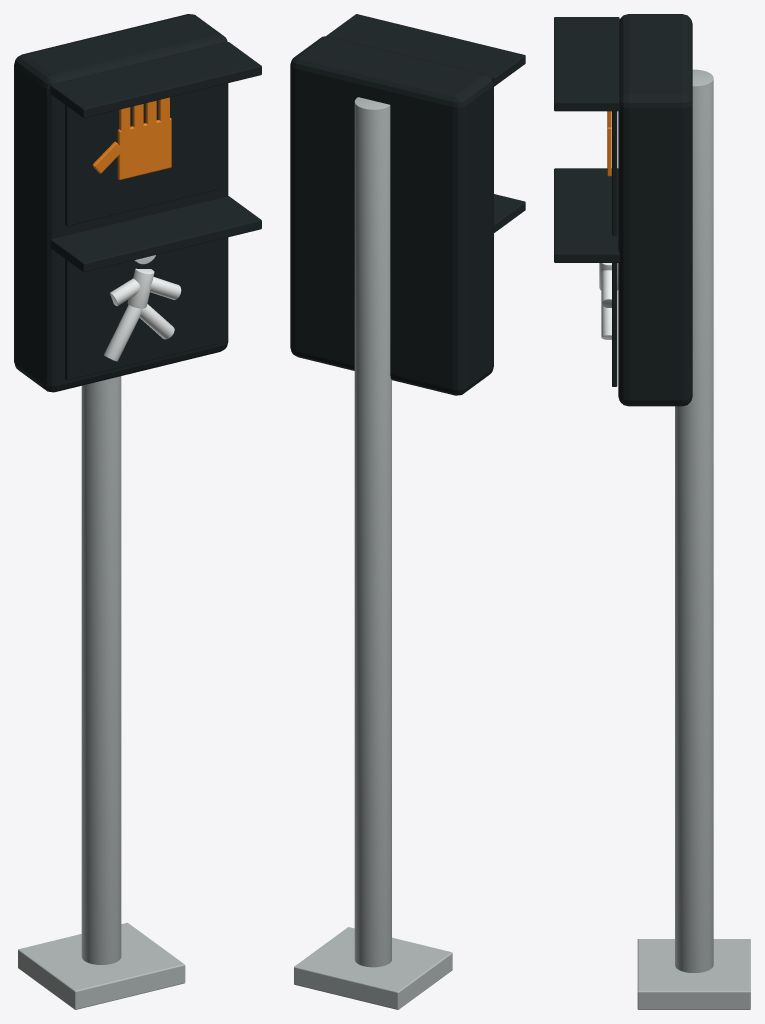
File: pedestrian_signal_head.glb
The picture shows the model from 3 angles, left to right: view 1: azimuth 30°, elevation 25°; view 2: azimuth 150°, elevation 25°; view 3: azimuth 270°, elevation 25°; orthographic projection. The views are drawn at different scales.
Parts seen in each view (by area): view 1: PEDESTRIAN_two_section_housing, MAST_support, PEDESTRIAN_screen_2.58, PEDESTRIAN_screen_3.14, MAST_base, PEDESTRIAN_visor_3.14, PEDESTRIAN_visor_2.58, LENS_orange_hand, LENS_white_walk; view 2: PEDESTRIAN_two_section_housing, MAST_support, MAST_base, PEDESTRIAN_visor_3.14, PEDESTRIAN_visor_2.58; view 3: MAST_support, PEDESTRIAN_two_section_housing, MAST_base, PEDESTRIAN_visor_3.14, PEDESTRIAN_visor_2.58, LENS_white_walk, PEDESTRIAN_screen_3.14, PEDESTRIAN_screen_2.58.
Boxes of the visible parts, x1,y1,x2,y2 form: PEDESTRIAN_two_section_housing: (14,14,228,392); MAST_support: (81,376,121,964); PEDESTRIAN_screen_2.58: (65,239,219,380); PEDESTRIAN_screen_3.14: (65,85,219,226); MAST_base: (18,922,185,1009); PEDESTRIAN_visor_3.14: (50,42,261,118); PEDESTRIAN_visor_2.58: (50,196,261,272); LENS_orange_hand: (92,97,171,179); LENS_white_walk: (104,255,181,361); PEDESTRIAN_two_section_housing: (290,36,493,395); MAST_support: (354,97,391,967); MAST_base: (294,927,452,1009); PEDESTRIAN_visor_3.14: (326,14,525,86); PEDESTRIAN_visor_2.58: (494,194,525,232); MAST_support: (675,69,713,972); PEDESTRIAN_two_section_housing: (618,14,692,406); MAST_base: (637,939,750,1009); PEDESTRIAN_visor_3.14: (554,17,619,111); PEDESTRIAN_visor_2.58: (554,168,619,262); LENS_white_walk: (599,263,618,339); PEDESTRIAN_screen_3.14: (612,111,617,235); PEDESTRIAN_screen_2.58: (612,263,617,386).
Size of the model in its own units: 0.7 by 3.43 by 0.66.
